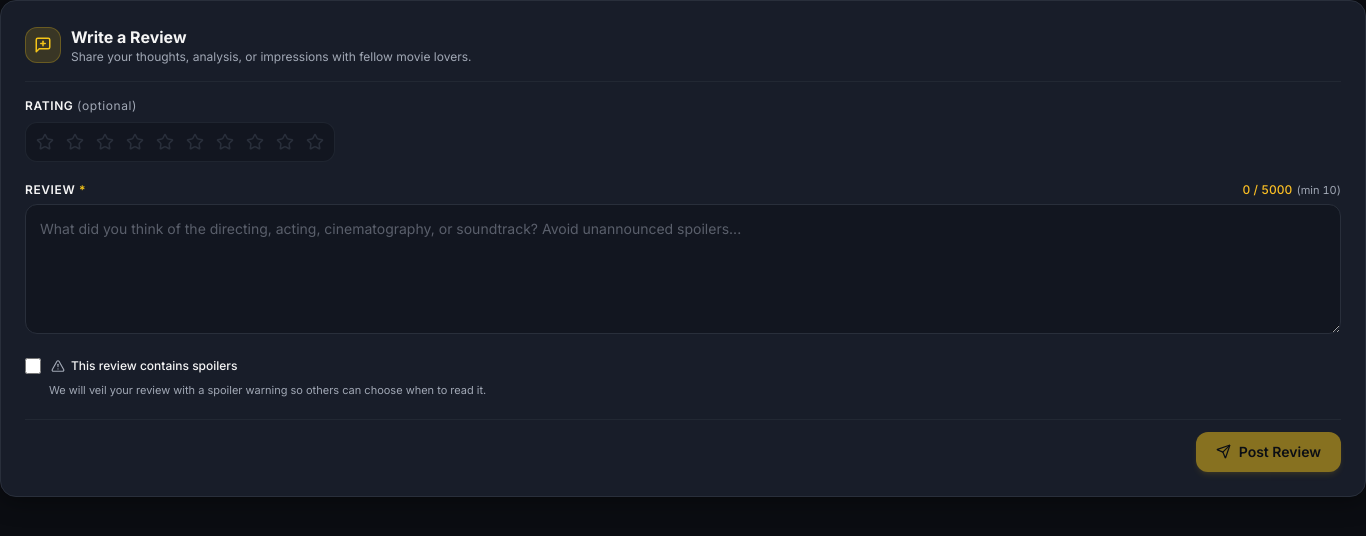
ReviewForm component › validates min characters length before submitting
Replace the text in the text box with placeholder "What did you think of the directing" with "Too short" at [683, 269], box 25,204 -> 1341,334
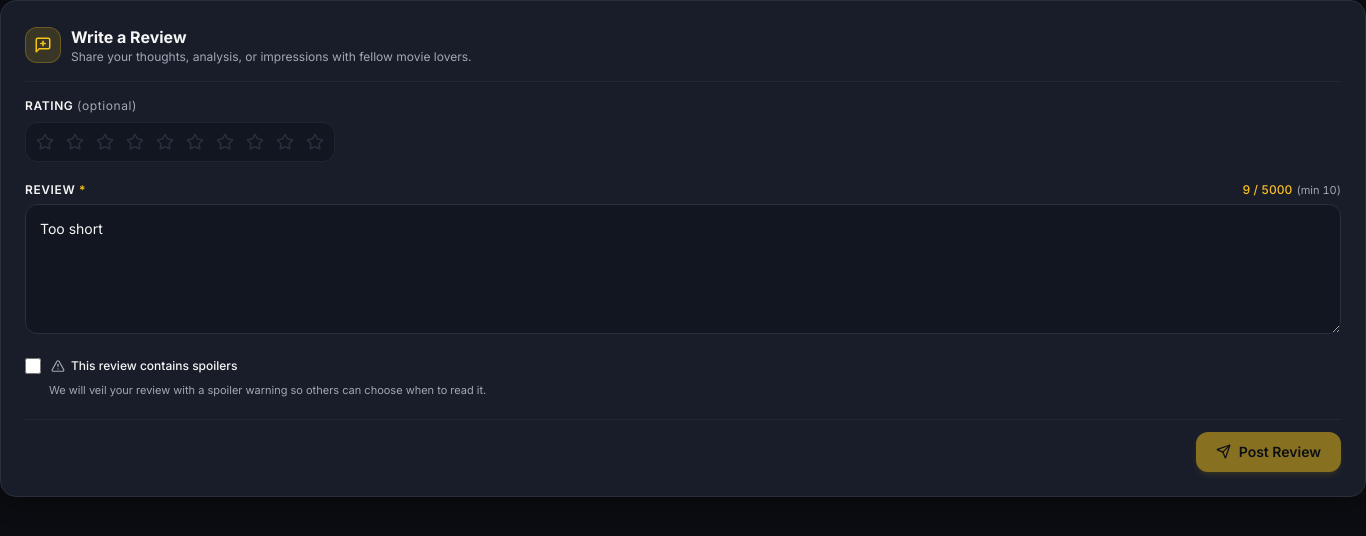
Submit the text "Post Review"
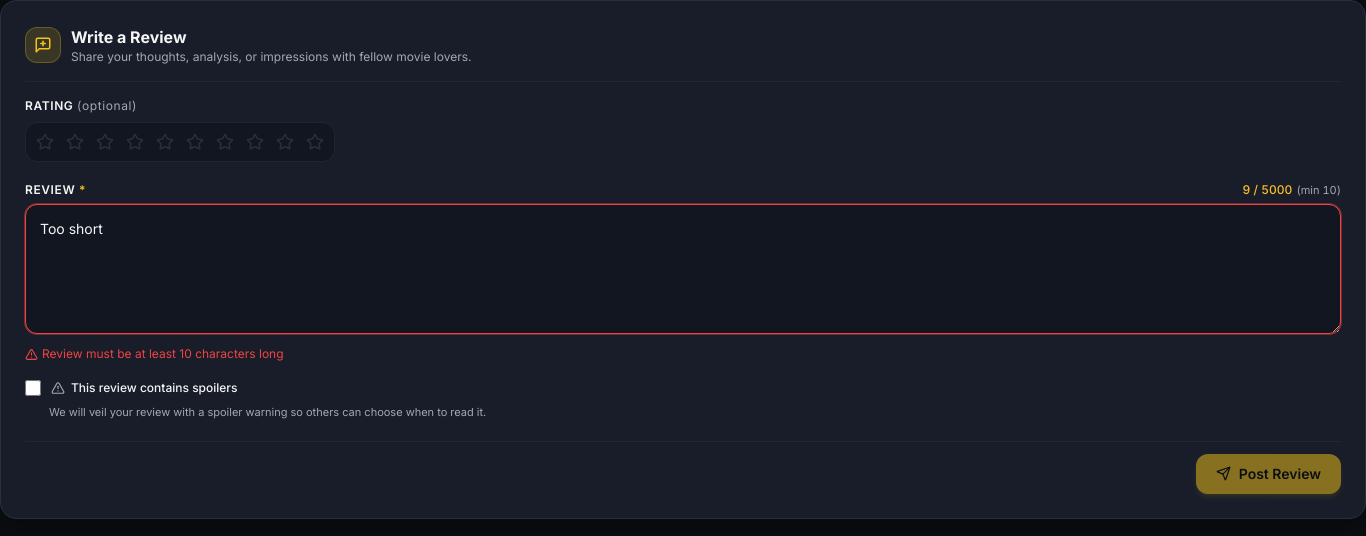
Expected: the text "Review must be at least 10 characters long" is shown, 42,346 -> 284,362
